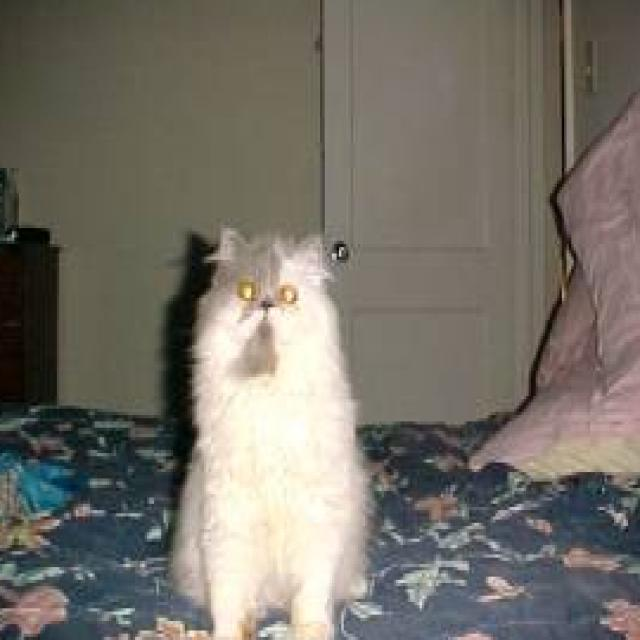Persian: (168, 218, 372, 640)
